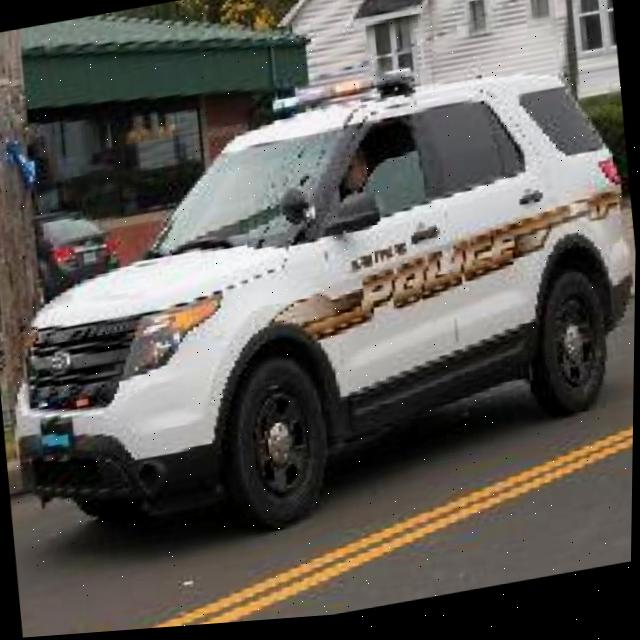emergency: (0, 31, 639, 575)
